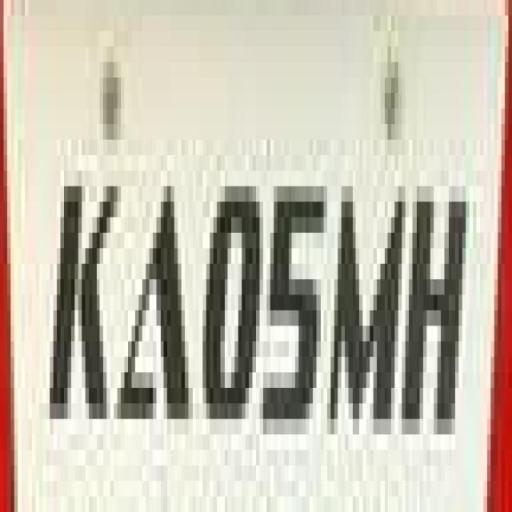number plate: (14, 0, 512, 512)
